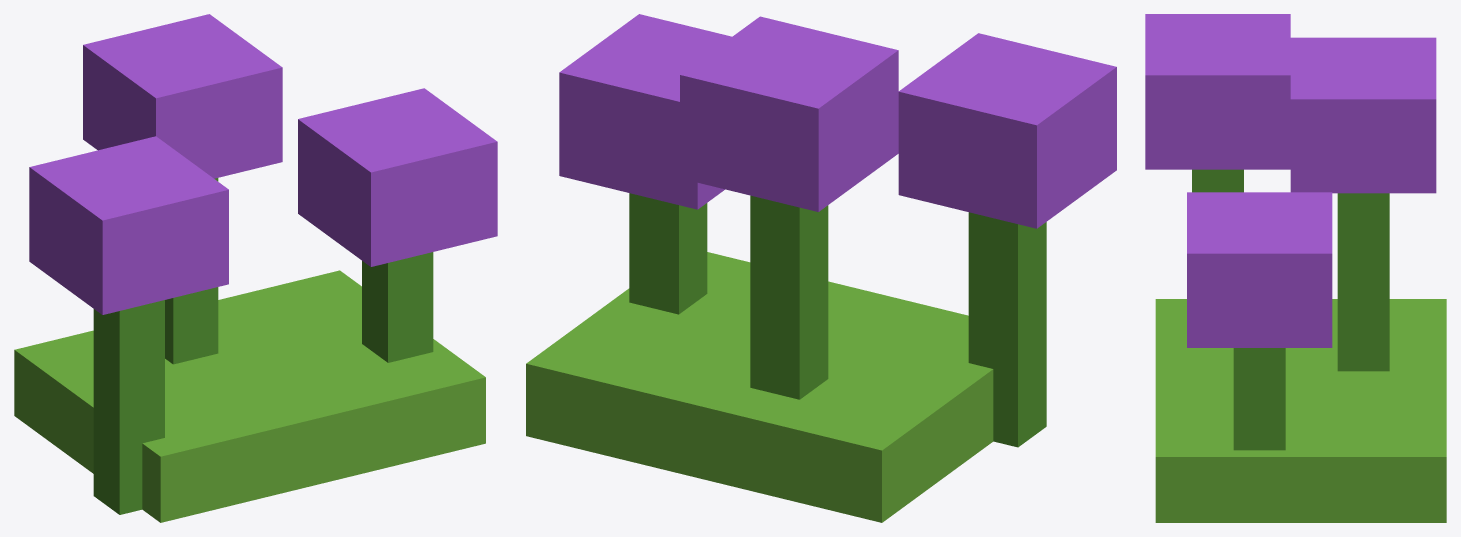
File: Flowers_Purple.glb
3 views of the same model, side by side, from view 1: azimuth 30°, elevation 25°; view 2: azimuth 150°, elevation 25°; view 3: azimuth 270°, elevation 25° (orthographic). The views are drawn at different scales.
Visible parts, largest first — view 1: Flowers_Purple; view 2: Flowers_Purple; view 3: Flowers_Purple.
Boxes of the visible parts, bbox=[...] form: Flowers_Purple: bbox=[14, 14, 497, 522]; Flowers_Purple: bbox=[526, 14, 1116, 522]; Flowers_Purple: bbox=[1145, 14, 1446, 522].
Bounding box in the file's own units: 2.3 × 1.9 × 1.45.
1 material, 1 textured.
